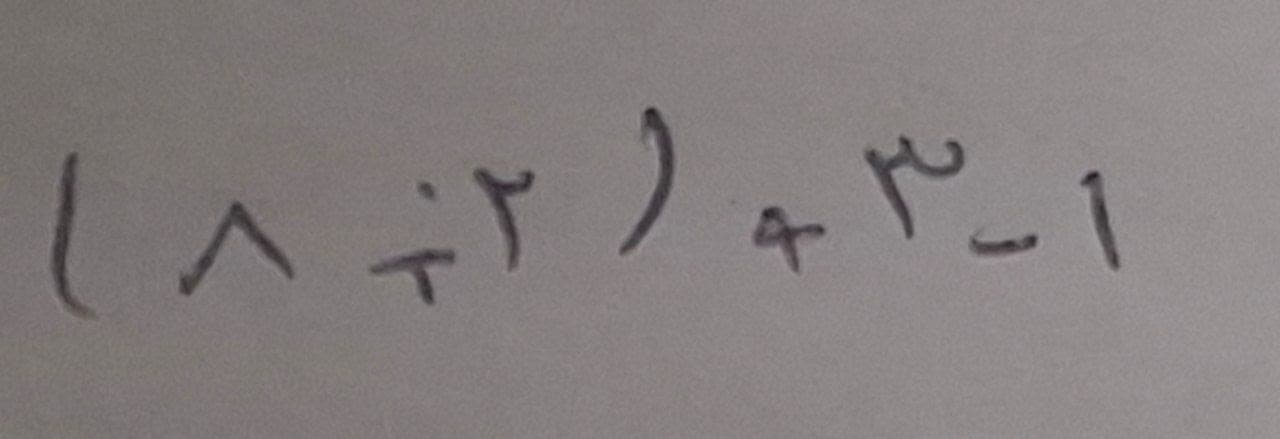character: (171, 194, 299, 294), (365, 180, 459, 316), (860, 132, 954, 247), (610, 102, 679, 257), (47, 141, 104, 325), (467, 165, 539, 270), (748, 202, 828, 276), (1080, 167, 1121, 271), (967, 227, 1038, 260)
